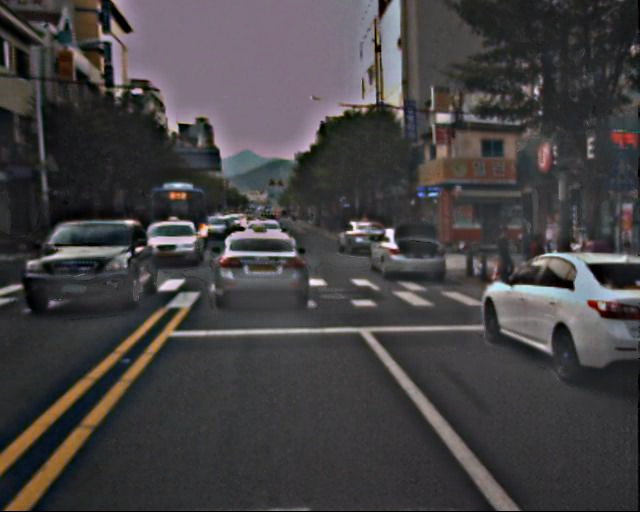person: (525, 234, 549, 293), (494, 224, 516, 285)
